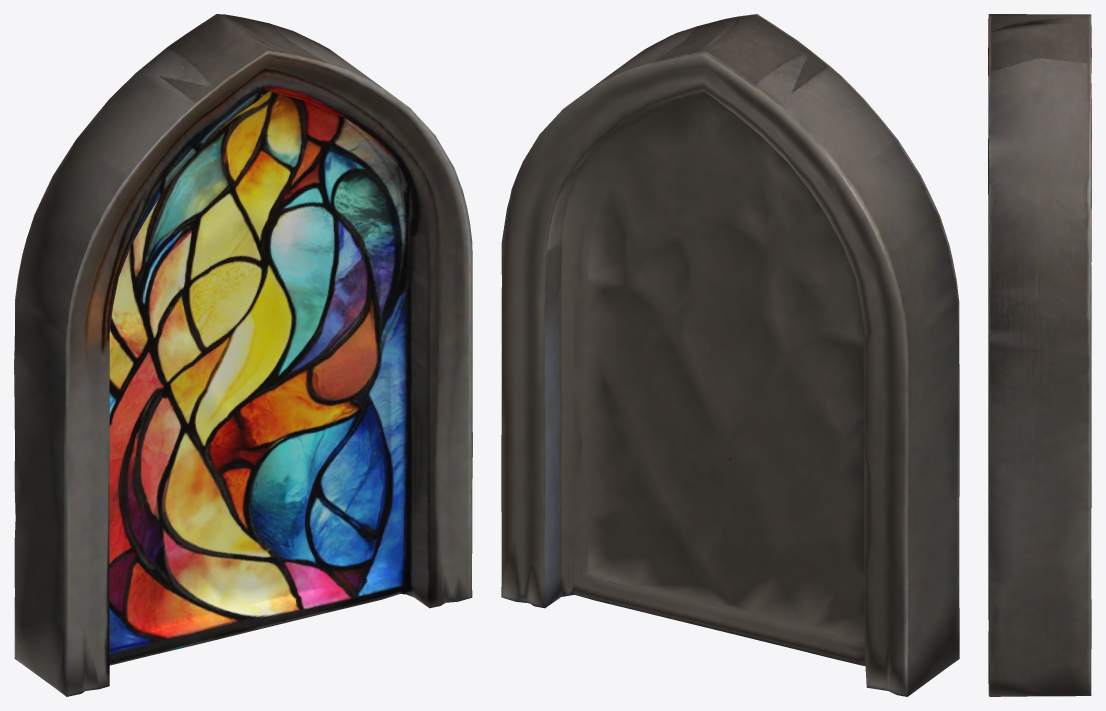
Rendered from testGlassDoor.glb.
3 views of the same model, side by side, from view 1: azimuth 30°, elevation 25°; view 2: azimuth 150°, elevation 25°; view 3: azimuth 270°, elevation 25° (orthographic). The views are drawn at different scales.
Visible parts, largest first — view 1: Mesh_0; view 2: Mesh_0; view 3: Mesh_0.
Part boxes in pixels (bbox=[...]): Mesh_0: bbox=[14, 14, 472, 696]; Mesh_0: bbox=[501, 14, 959, 696]; Mesh_0: bbox=[988, 14, 1091, 696].
Bounding box in the file's own units: 1.43 × 2 × 0.3231.
Materials: 1 (1 with a texture image).
